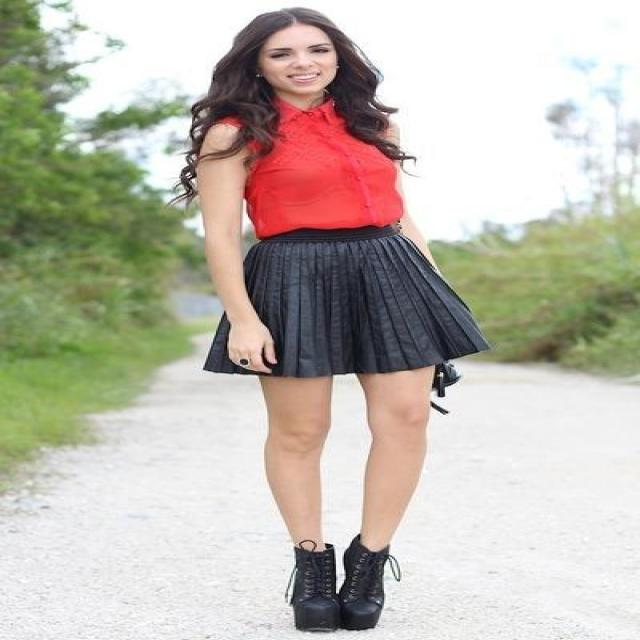bag: (432, 358, 458, 396)
shirt: (243, 100, 402, 237)
shoe: (290, 534, 395, 632)
skirt: (203, 224, 506, 378)
